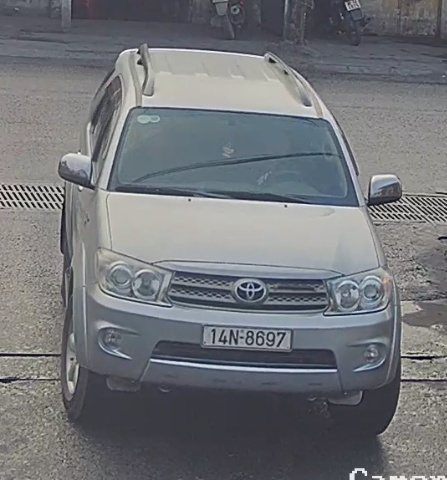vehicle plate: (198, 323, 301, 353)
